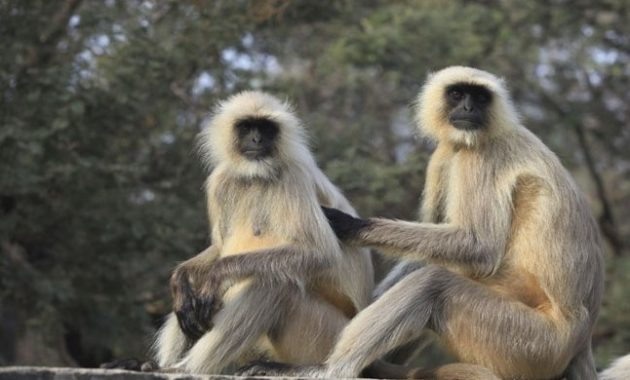monkey: (325, 58, 625, 380), (152, 74, 381, 379)
